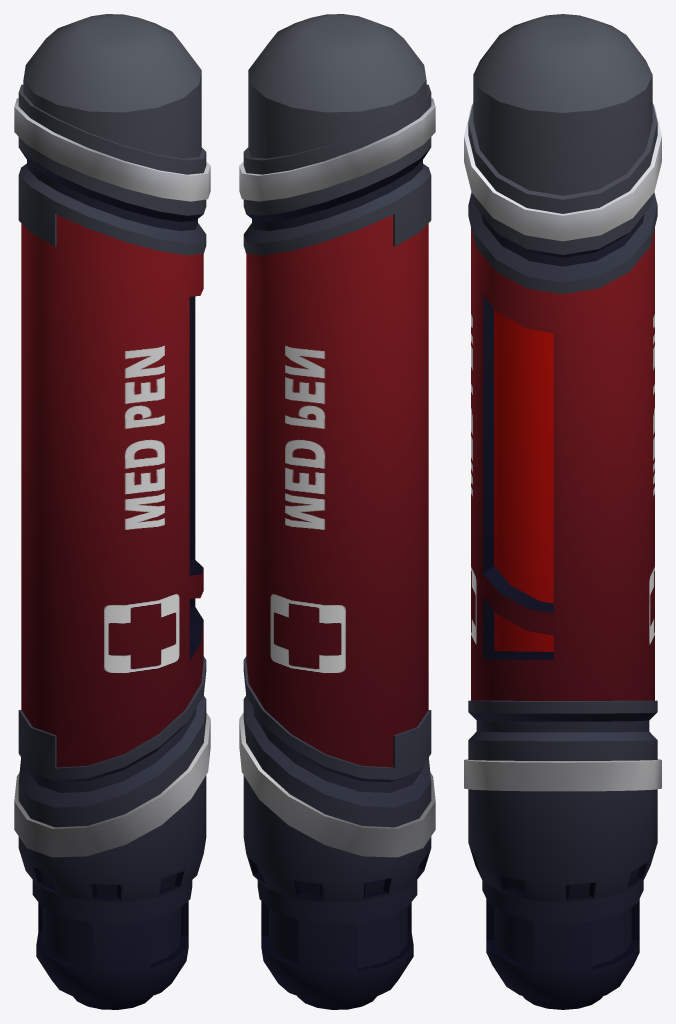
The model's file is Medpen.fbx.
The picture shows the model from 3 angles, left to right: view 1: azimuth 30°, elevation 25°; view 2: azimuth 150°, elevation 25°; view 3: azimuth 270°, elevation 25°; orthographic projection.
Parts seen in each view (by area): view 1: MEDPEN; view 2: MEDPEN; view 3: MEDPEN.
Part boxes in pixels (left/top/right/bottom): MEDPEN: left=14, top=14, right=210, bottom=1009; MEDPEN: left=239, top=14, right=435, bottom=1009; MEDPEN: left=464, top=14, right=661, bottom=1009.
Size of the model in its own units: 205 by 1103 by 205.
Materials: 1 (1 with a texture image).
